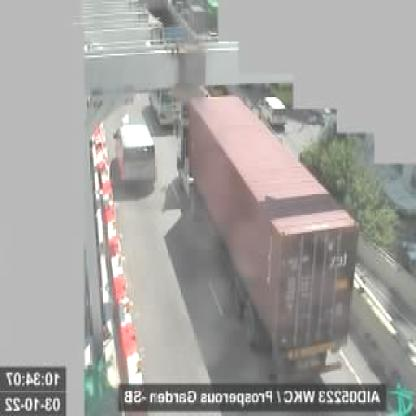Car: (117, 123, 157, 182)
Truck: (182, 95, 360, 369)
